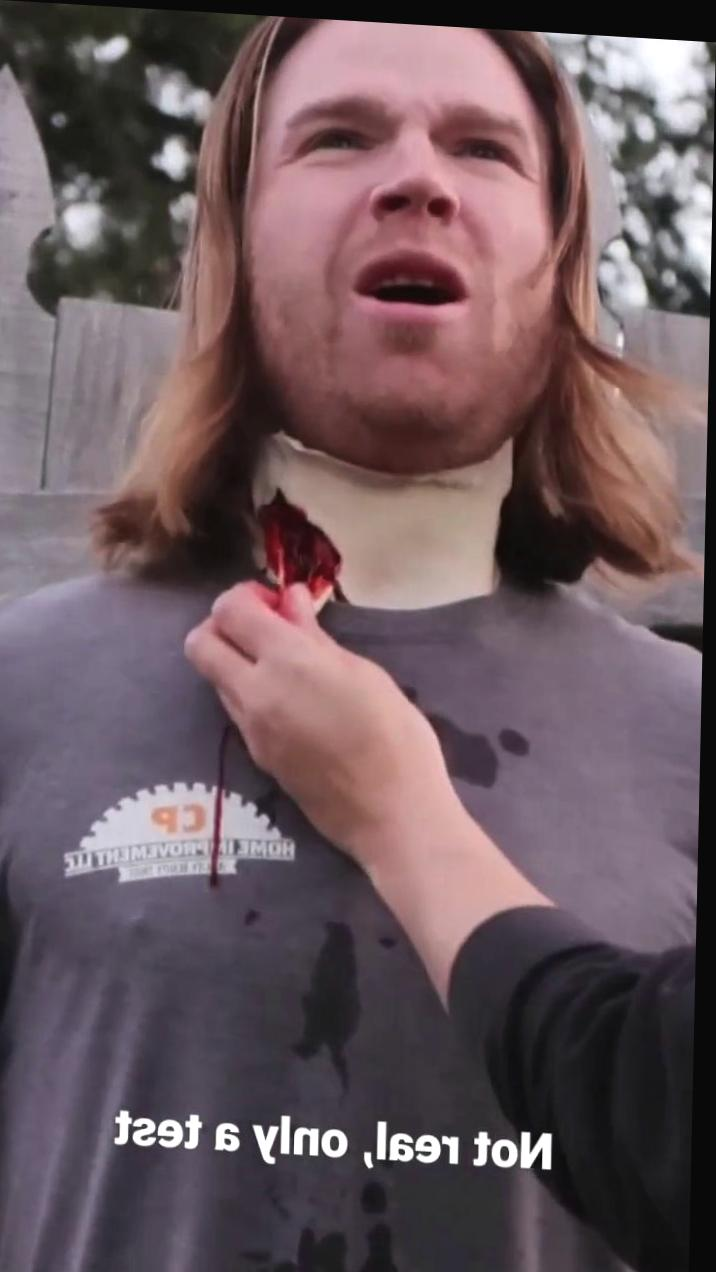Fire: (260, 489, 344, 607), (213, 718, 238, 886)
